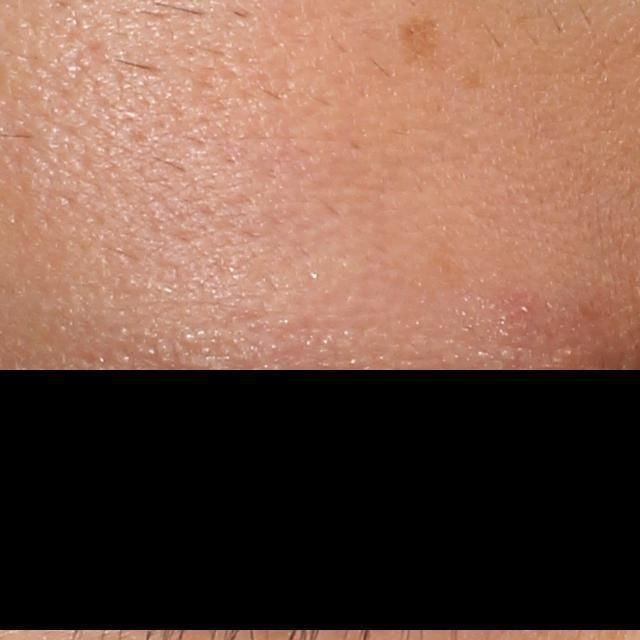melasma: (393, 10, 445, 71)
